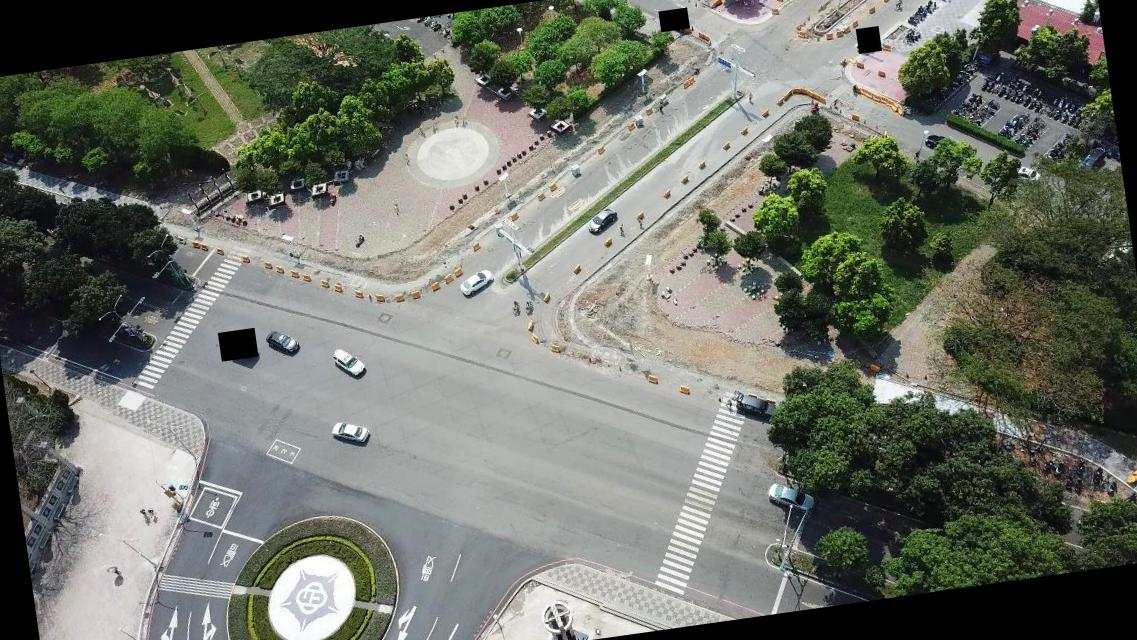vehicle: (766, 476, 816, 516), (736, 386, 778, 423), (332, 345, 368, 380), (331, 418, 371, 448), (266, 326, 302, 358), (458, 270, 495, 298), (1076, 144, 1108, 174), (586, 207, 619, 236), (1014, 164, 1040, 183), (924, 132, 946, 148)
